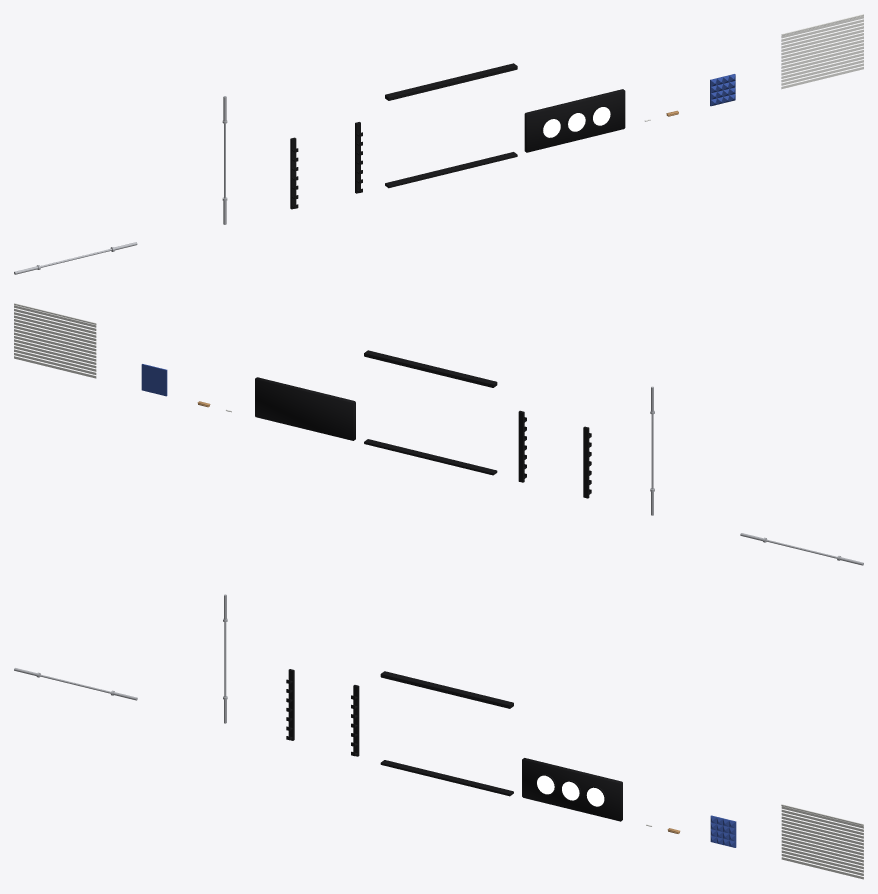
File: Fronts_01.glb
The picture shows the model from 3 angles, top to bottom: view 1: azimuth 30°, elevation 25°; view 2: azimuth 150°, elevation 25°; view 3: azimuth 330°, elevation 25°; orthographic projection.
Visible parts, largest first — view 1: Blinds_Slats, JudgesLights_Housing, GunRack_Rack, WallBarRack_Rack, JudgesLights_Lamps, FoamTile_Foam; view 2: Blinds_Slats, JudgesLights_Housing, GunRack_Rack, WallBarRack_Rack, FoamTile_Foam; view 3: Blinds_Slats, JudgesLights_Housing, GunRack_Rack, WallBarRack_Rack, JudgesLights_Lamps, FoamTile_Foam.
Boxes of the visible parts, x1=… form: Blinds_Slats: x1=781, y1=14, x2=863, y2=88; JudgesLights_Housing: x1=524, y1=89, x2=625, y2=152; GunRack_Rack: x1=385, y1=63, x2=517, y2=188; WallBarRack_Rack: x1=290, y1=122, x2=362, y2=209; JudgesLights_Lamps: x1=543, y1=107, x2=610, y2=137; FoamTile_Foam: x1=710, y1=74, x2=735, y2=106; Blinds_Slats: x1=14, y1=303, x2=96, y2=378; JudgesLights_Housing: x1=255, y1=377, x2=355, y2=440; GunRack_Rack: x1=364, y1=350, x2=497, y2=475; WallBarRack_Rack: x1=518, y1=410, x2=591, y2=498; FoamTile_Foam: x1=141, y1=364, x2=167, y2=396; Blinds_Slats: x1=781, y1=804, x2=863, y2=879; JudgesLights_Housing: x1=522, y1=758, x2=622, y2=821; GunRack_Rack: x1=380, y1=671, x2=513, y2=796; WallBarRack_Rack: x1=286, y1=669, x2=359, y2=756; JudgesLights_Lamps: x1=537, y1=775, x2=604, y2=806; FoamTile_Foam: x1=710, y1=815, x2=736, y2=847.
Bounding box in the file's own units: 68.2 × 9.8 × 0.79.
